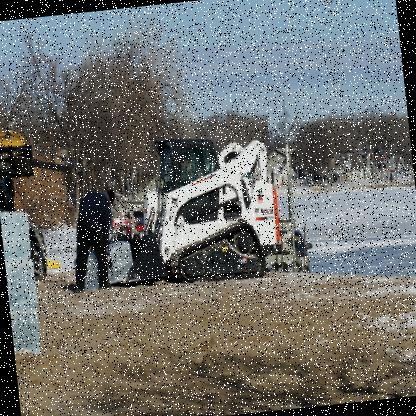Car: (125, 218, 145, 242)
